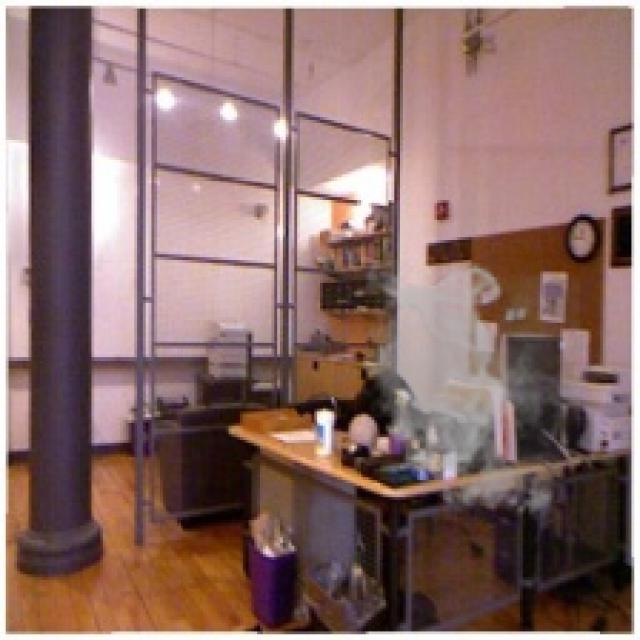smoke: (354, 260, 580, 523)
